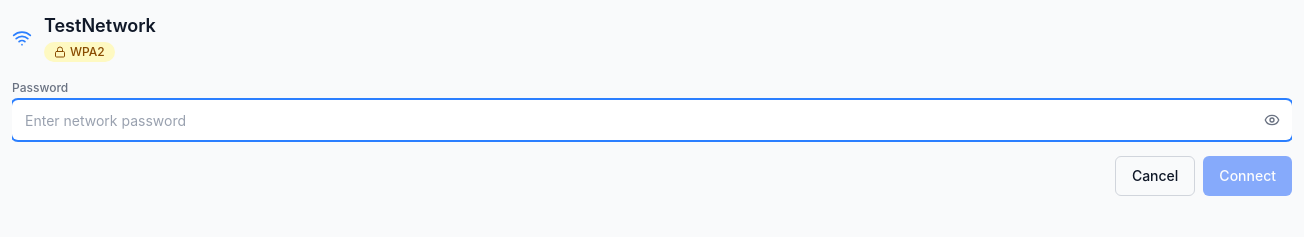
WifiConnectDialog › shows validation error for short password
This screenshot has width=1304, height=237.
Type "short" into the password field labelled "Password" at coordinates (652, 120), box [12, 100, 1292, 140]
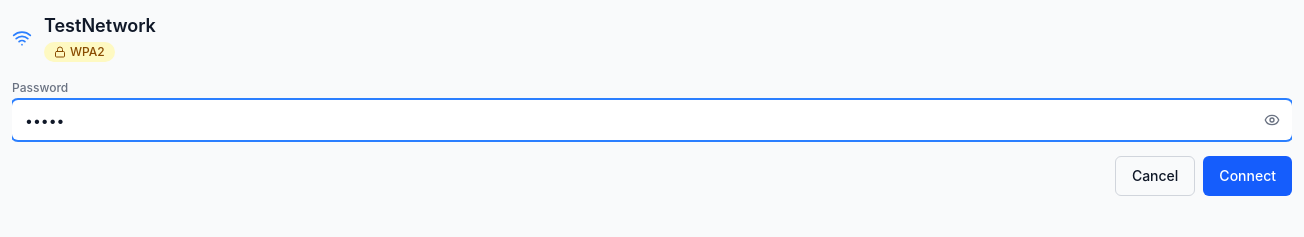
Click the button "Connect" at coordinates (1248, 176), box [1203, 156, 1292, 196]
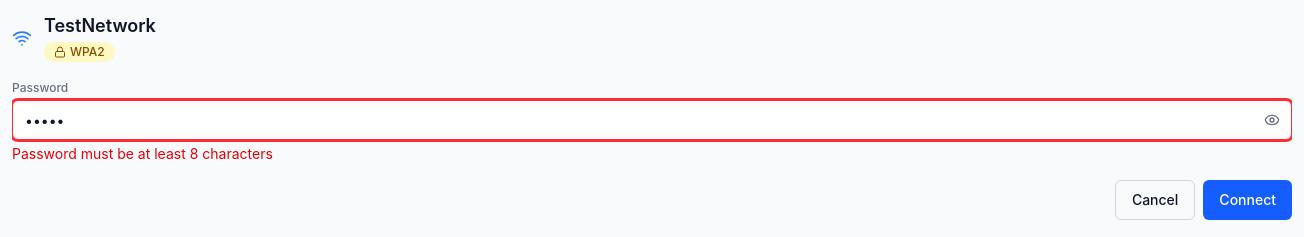
Expected: the text "Password must be at least 8 characters" is shown, [12, 145, 273, 162]
